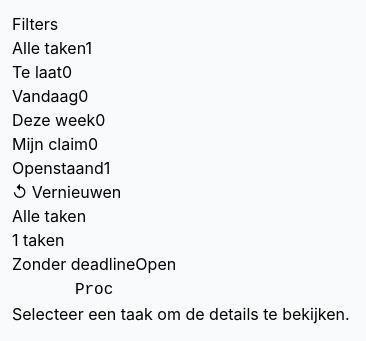
TakenInbox deadline filters › says the filter is empty rather than showing a blank column
Expected: the text "Zonder deadline" is shown, [12,254,135,274]
Click the button "Te laat0" at (42, 72), box [12,60,72,84]
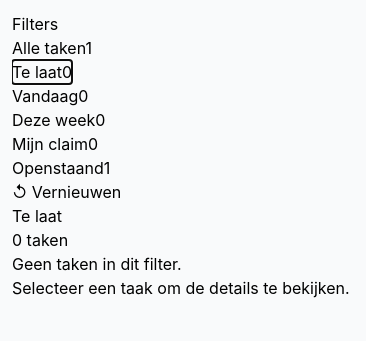
Expected: the text "Geen taken in dit filter." is shown, [12,254,182,274]
